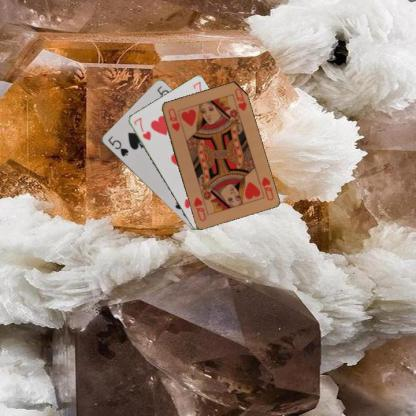5s: (105, 133, 130, 158)
7h: (131, 115, 152, 142)
Qh: (165, 105, 181, 132), (259, 174, 274, 202)
